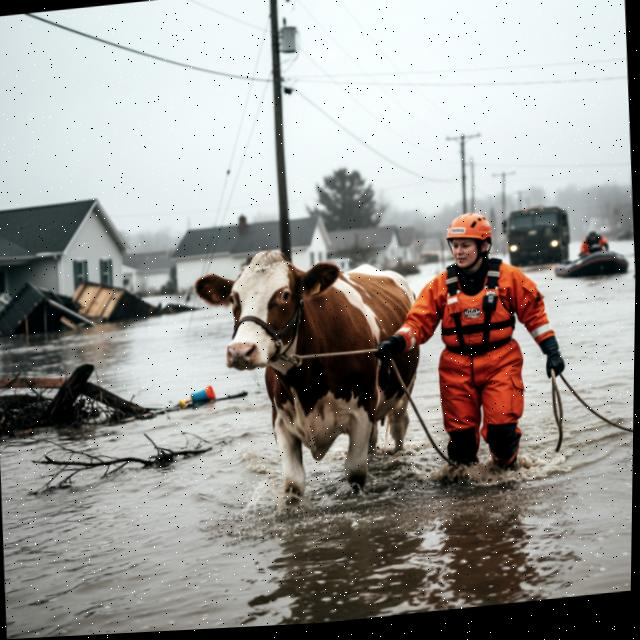cow: (181, 226, 434, 526)
rescuer: (364, 195, 579, 494), (573, 225, 611, 263)
